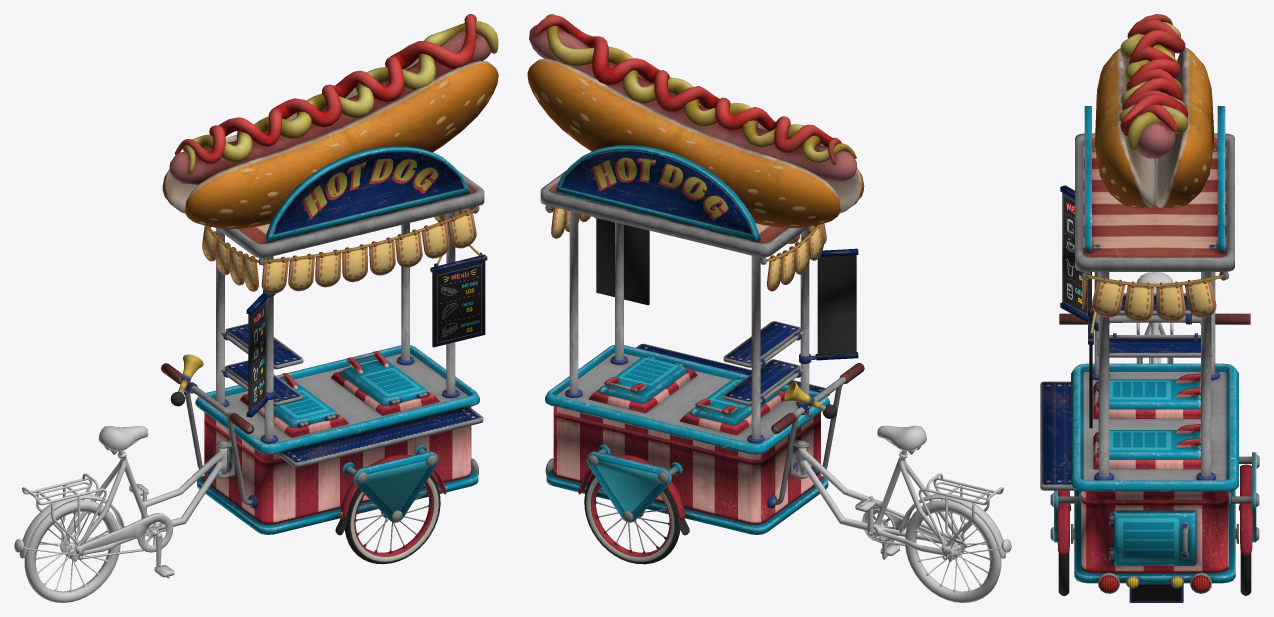
File: hotdog-bike.fbx
The picture shows the model from 3 angles, left to right: view 1: azimuth 30°, elevation 25°; view 2: azimuth 150°, elevation 25°; view 3: azimuth 270°, elevation 25°; orthographic projection. The views are drawn at different scales.
Parts seen in each view (by area): view 1: hot, bike; view 2: hot, bike; view 3: hot, chepai, bike.
Part boxes in pixels (box(x1,y1,x2,y2)): hot: box(161, 14, 498, 564); bike: box(14, 426, 226, 602); hot: box(527, 14, 864, 564); bike: box(798, 425, 1011, 602); hot: box(1040, 14, 1259, 596); chepai: box(1129, 583, 1183, 602); bike: box(1136, 272, 1173, 363).
Bounding box in the file's own units: 181 × 176 × 63.59.
